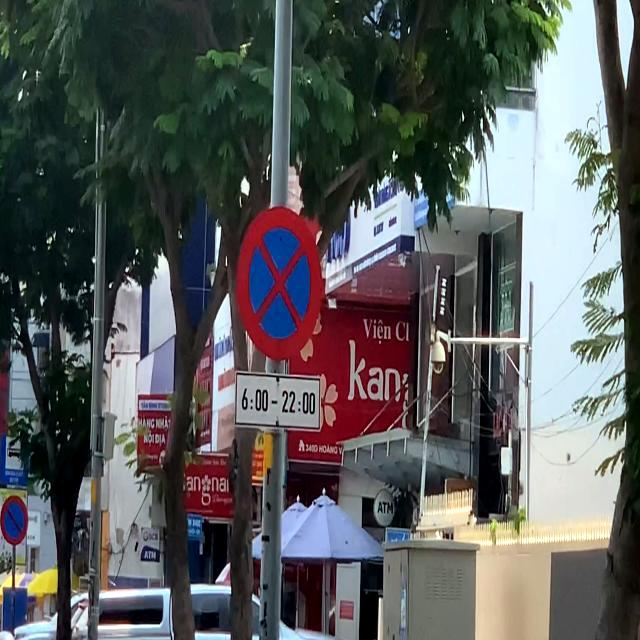Cam do xe: (0, 496, 29, 546)
Cam dung xe va do xe: (237, 207, 322, 360)
